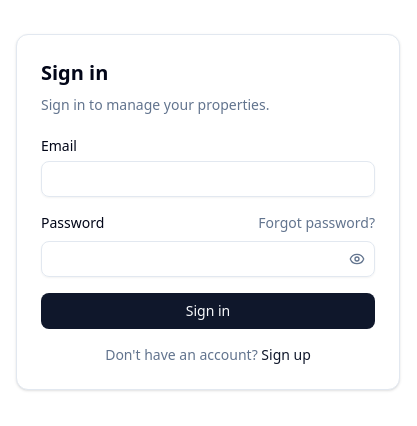
Test: SignInPage › shows the mapped error message, not the raw one, on a failed sign-in
Type "person@example.com" into the field labelled "Email". click: (208, 179)
box: x1=41 y1=161 x2=375 y2=197
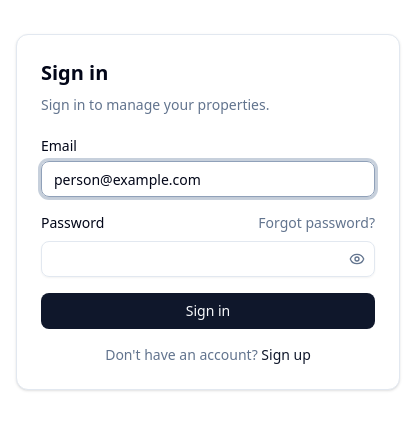
Type "wrong-password" into the password field labelled "Password". click: (208, 259)
box: x1=41 y1=241 x2=375 y2=277
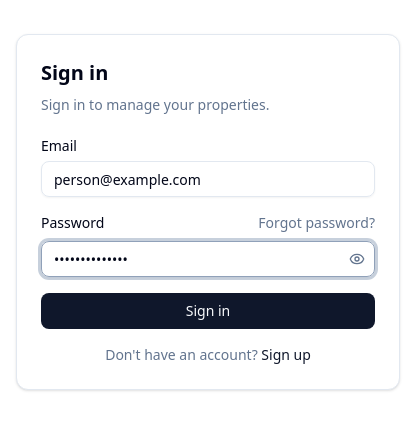
Click the button "Sign in". click: (208, 311)
box: x1=41 y1=293 x2=375 y2=329
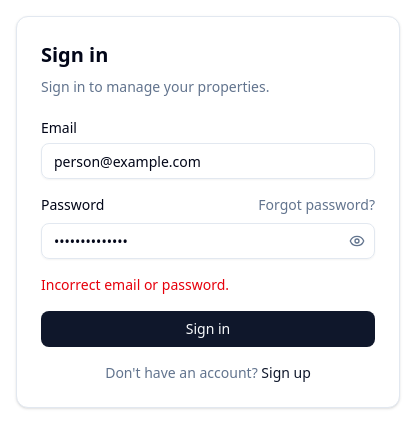
Check: the text "Incorrect email or password." is shown, box x1=41 y1=275 x2=229 y2=294
